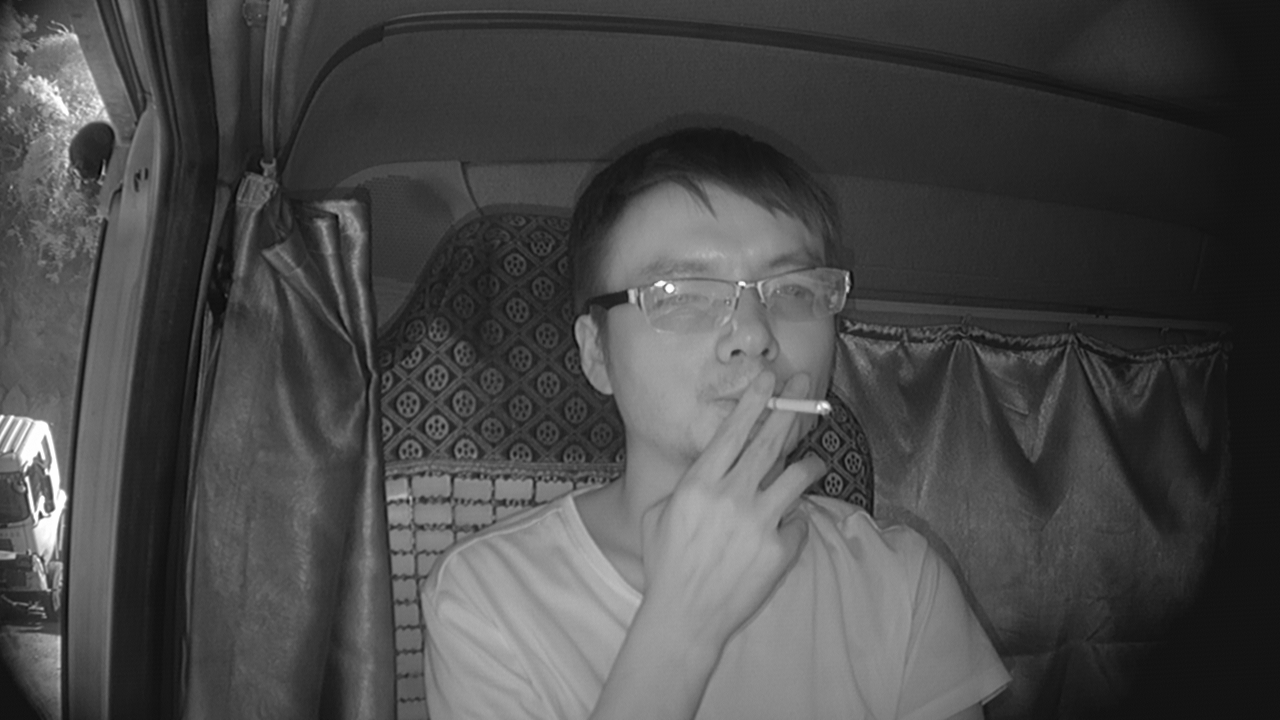hand: (657, 378, 828, 584)
